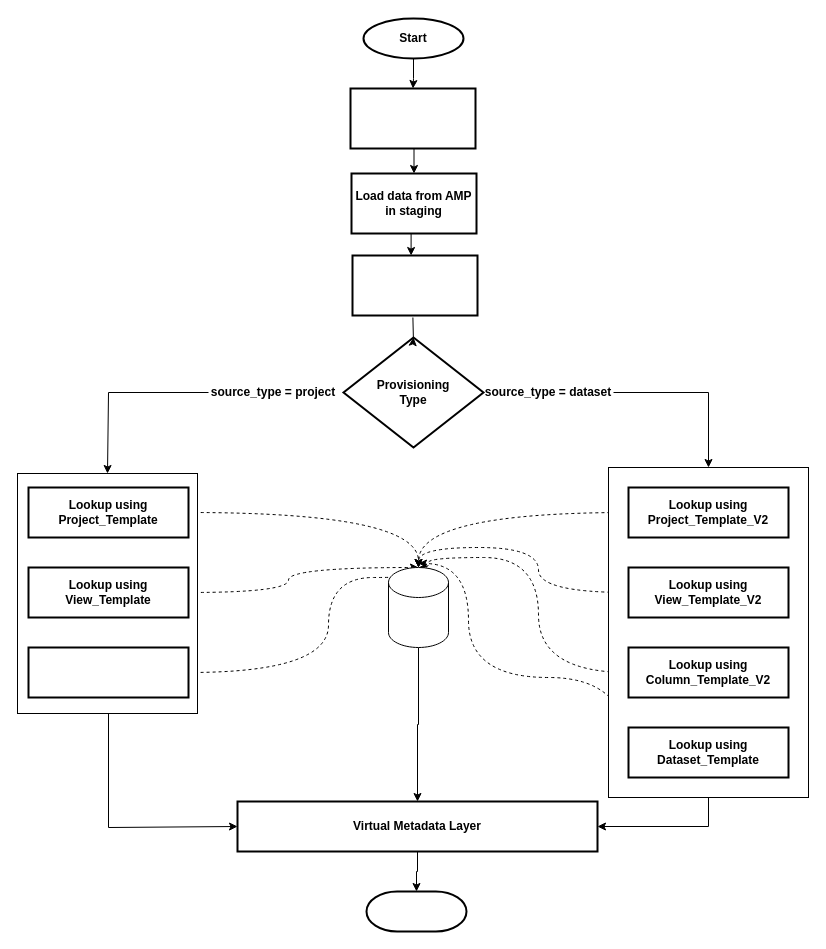
The diagram is 826 pixels wide and 949 high, and some of its shapes have lost their labels. Each missing label, with the box of its shape:
End: (365, 890, 467, 932)
Lookup Metadata from Metadata DataProduct: (351, 254, 478, 316)
Lookup using Column_Template: (27, 646, 189, 698)
Metadata DataProduct: (388, 566, 448, 648)
Query records created since last run from AMP: (349, 87, 476, 149)
